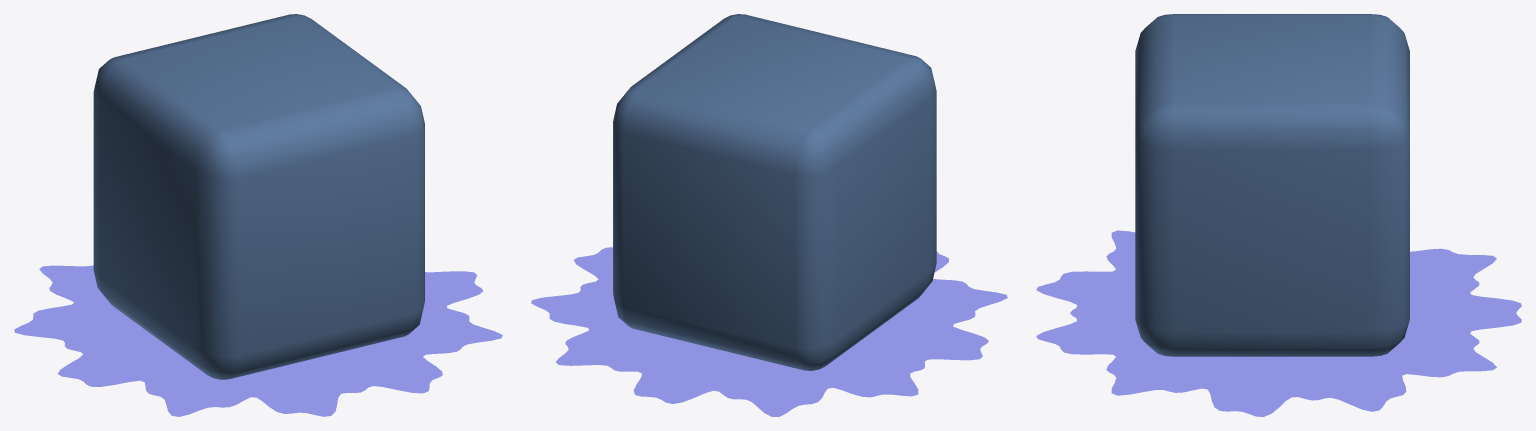
File: Cubito de Hielo.fbx
The picture shows the model from 3 angles, left to right: view 1: azimuth 30°, elevation 25°; view 2: azimuth 150°, elevation 25°; view 3: azimuth 270°, elevation 25°; orthographic projection. The views are drawn at different scales.
Visible parts, largest first — view 1: Cubito de hielo; view 2: Cubito de hielo; view 3: Cubito de hielo.
Part boxes in pixels (left/top/right/bottom): Cubito de hielo: left=14, top=14, right=502, bottom=416; Cubito de hielo: left=531, top=14, right=1007, bottom=416; Cubito de hielo: left=1036, top=14, right=1521, bottom=416.
Bounding box in the file's own units: 37.4 × 21.22 × 36.93.
